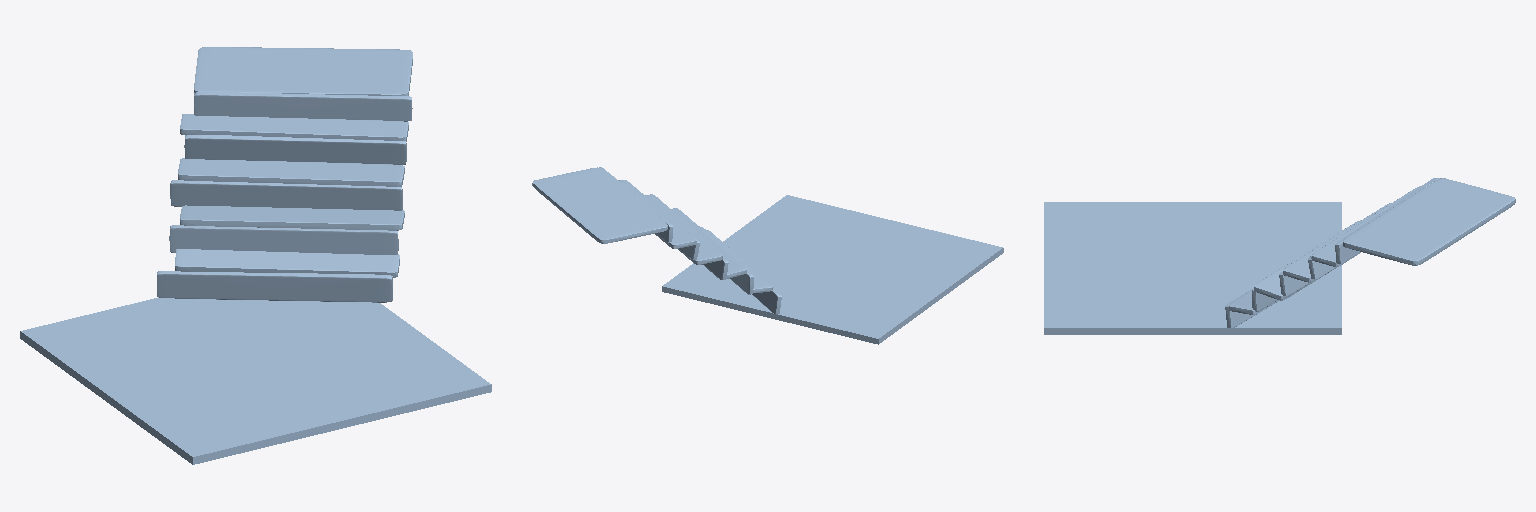
URDF robot description (stairs):
<?xml version="1.0" ?>
<robot name="stairs">
  <dynamics damping="0.5" friction="0.9"/>
  <link name="stairs_link">
    <inertial>
      <mass value="0.1"/>
      <origin xyz="0 0 0"/>
      <inertia ixx="0.002" ixy="0" ixz="0" iyy="0.002" iyz="0" izz="0.002"/>
    </inertial>
    <contact>
      <lateral_friction value="0.9"/>
      <rolling_friction value="0.5"/>
      <stiffness value="30000"/>
      <damping value="1000"/>
    </contact>
    <visual>
      <origin rpy="0 0 0" xyz="0 0 0"/>
      <geometry>
        <mesh filename="stairs.obj" scale="1.0 1.0 1.0"/>
      </geometry>
       <material name="mat">
        <color rgba="0.7 0.8 0.9 0.7"/>
      </material>
    </visual>
    <collision name="stairs">
      <origin rpy="0 0 0" xyz="0 0 0"/>
      <geometry>
        <mesh filename="stairs.obj" scale="1.0 1.0 1.0"/>
      </geometry>
    </collision>
  </link>
</robot>

--- Facts derived from the render (not from the file) ---
Views: 3 orthographic renders of the robot side by side, from view 1: azimuth 30°, elevation 25°; view 2: azimuth 150°, elevation 25°; view 3: azimuth 270°, elevation 25°.
Robot: stairs — 1 links, 0 joints (none); root link stairs_link; default pose: all joints at 0.
Links seen in each view (by area): view 1: stairs_link; view 2: stairs_link; view 3: stairs_link.
Link boxes in pixels (box(x1,y1,x2,y2)): stairs_link: box(20, 47, 491, 464); stairs_link: box(532, 167, 1003, 344); stairs_link: box(1044, 178, 1515, 334).
Size in the robot's own frame: 2.91 by 3.16 by 0.9673 metres.
1 mesh visuals loaded from 1 distinct referenced files (1 OBJ).